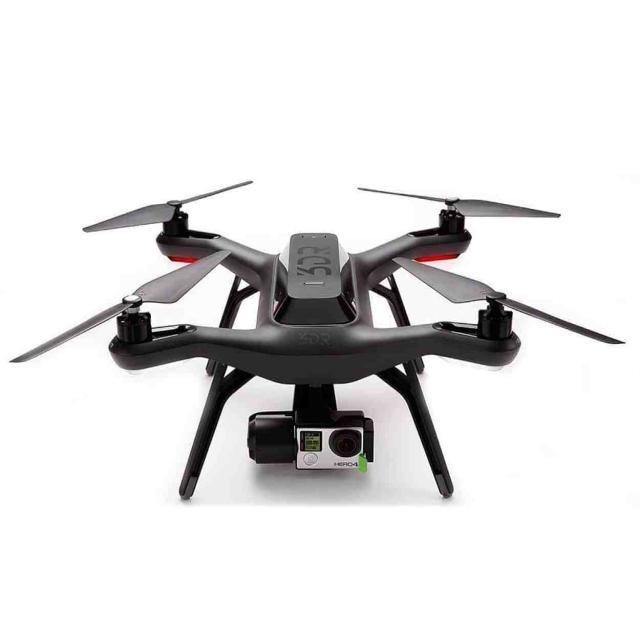drone: (24, 163, 636, 427)
